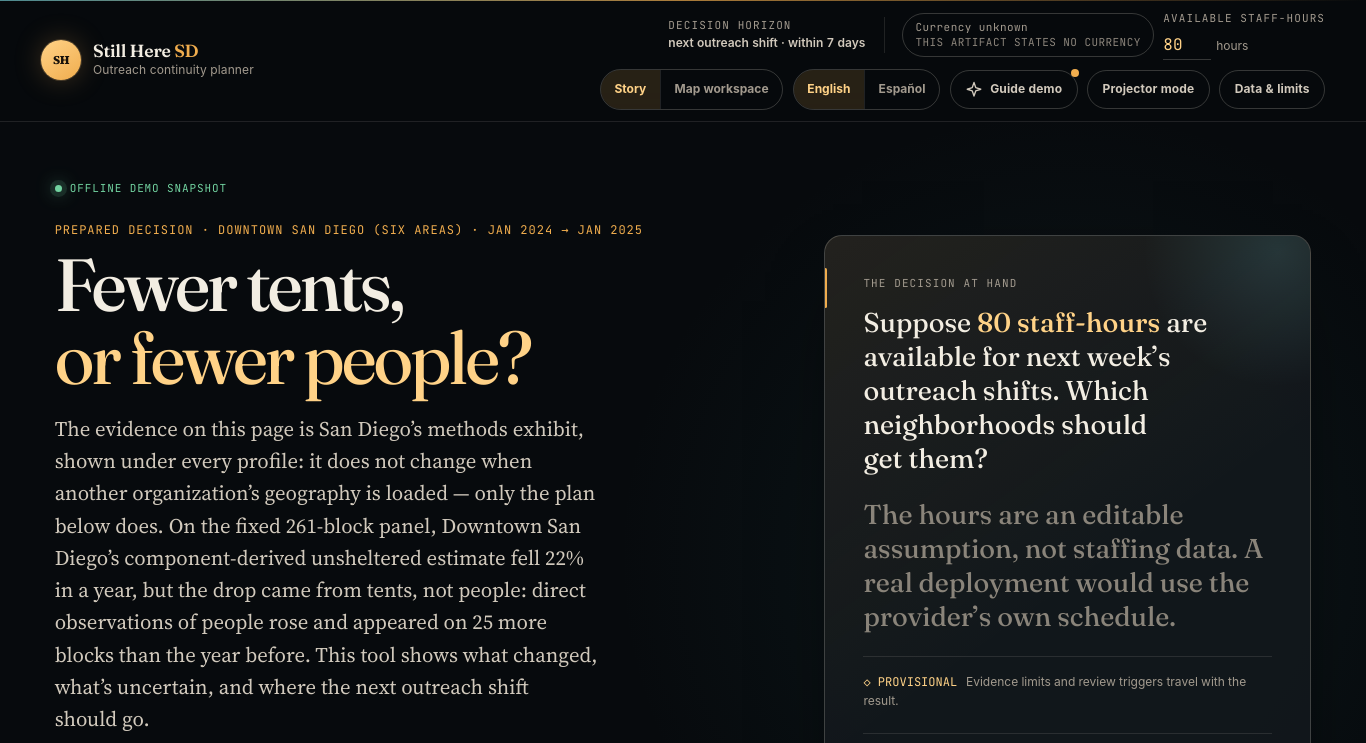
Test: choosing a language in the running shell › translates the decision brief a coordinator pastes into an email
Check: the text "Offline demo snapshot" is shown, box [55, 180, 227, 197]
Click the button "Español": (902, 90) [864, 70, 939, 109]
(page scrolled)
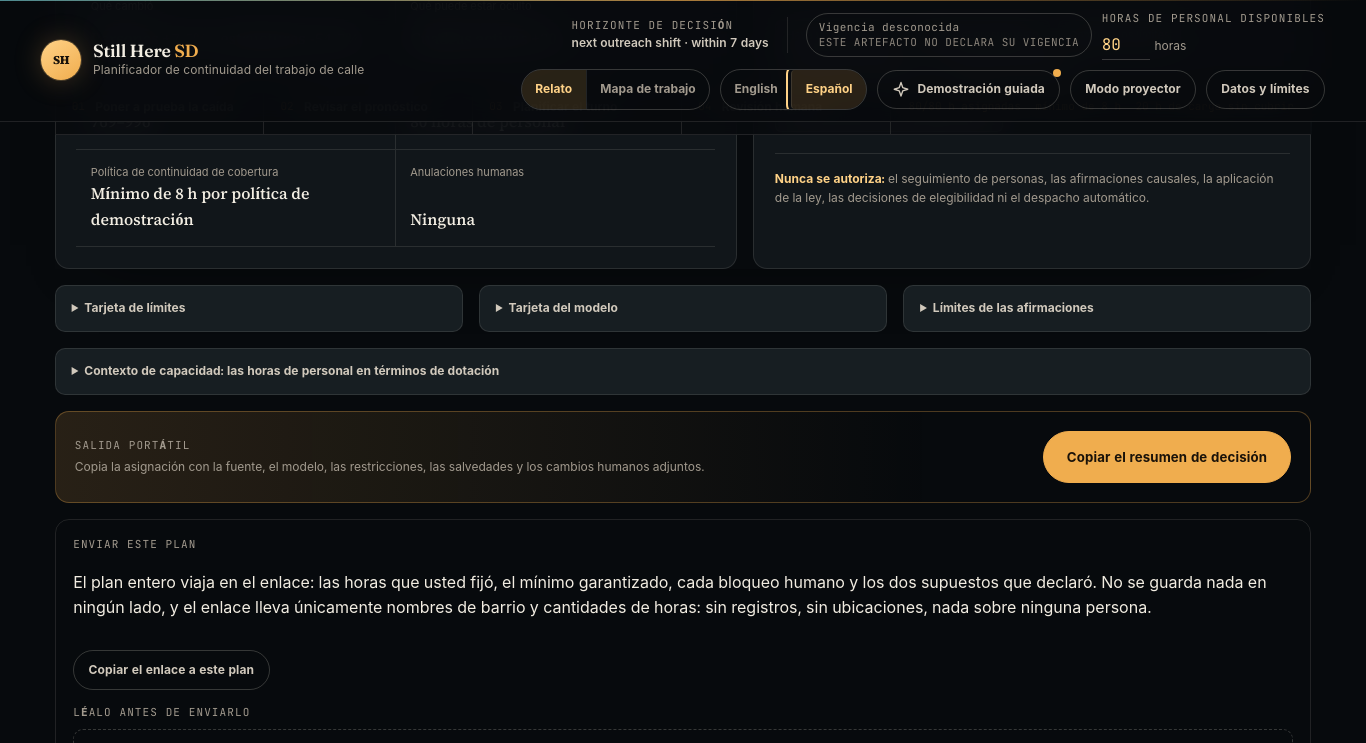
Click the button "Copiar el resumen de decisión": (1167, 457) [1043, 431, 1291, 483]
(page scrolled)
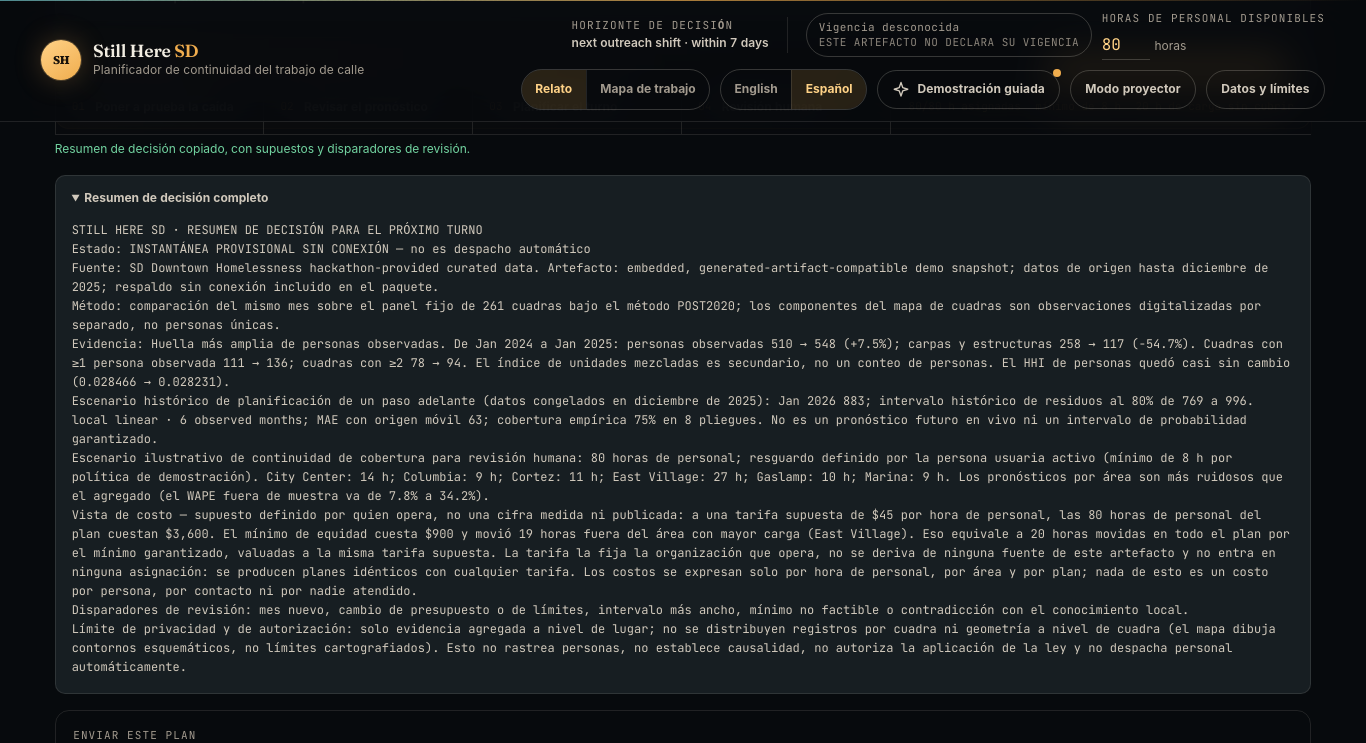
Check: the text "RESUMEN DE DECISIÓN" is shown, box [72, 222, 1297, 675]
Check: the text "RESUMEN DE DECISIÓN" shows "261", box [72, 222, 1297, 675]
